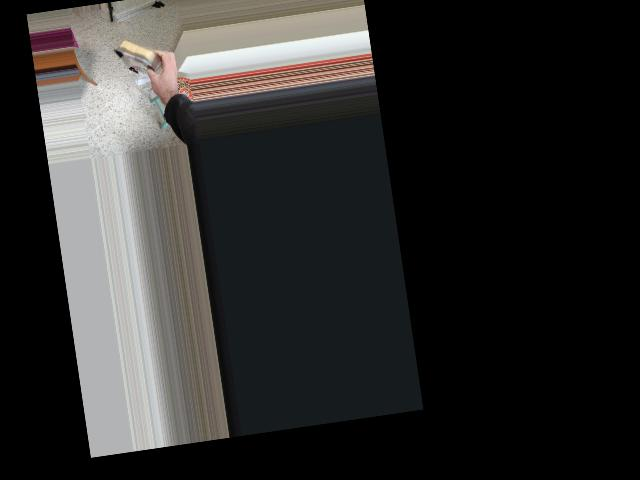cheese: (102, 23, 186, 93)
